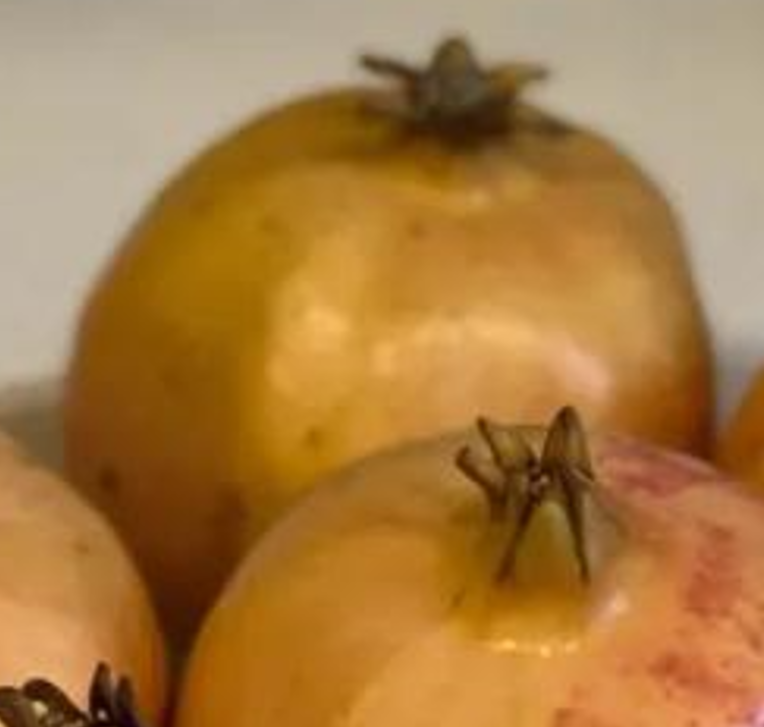pomegranate_B: (64, 33, 718, 654)
